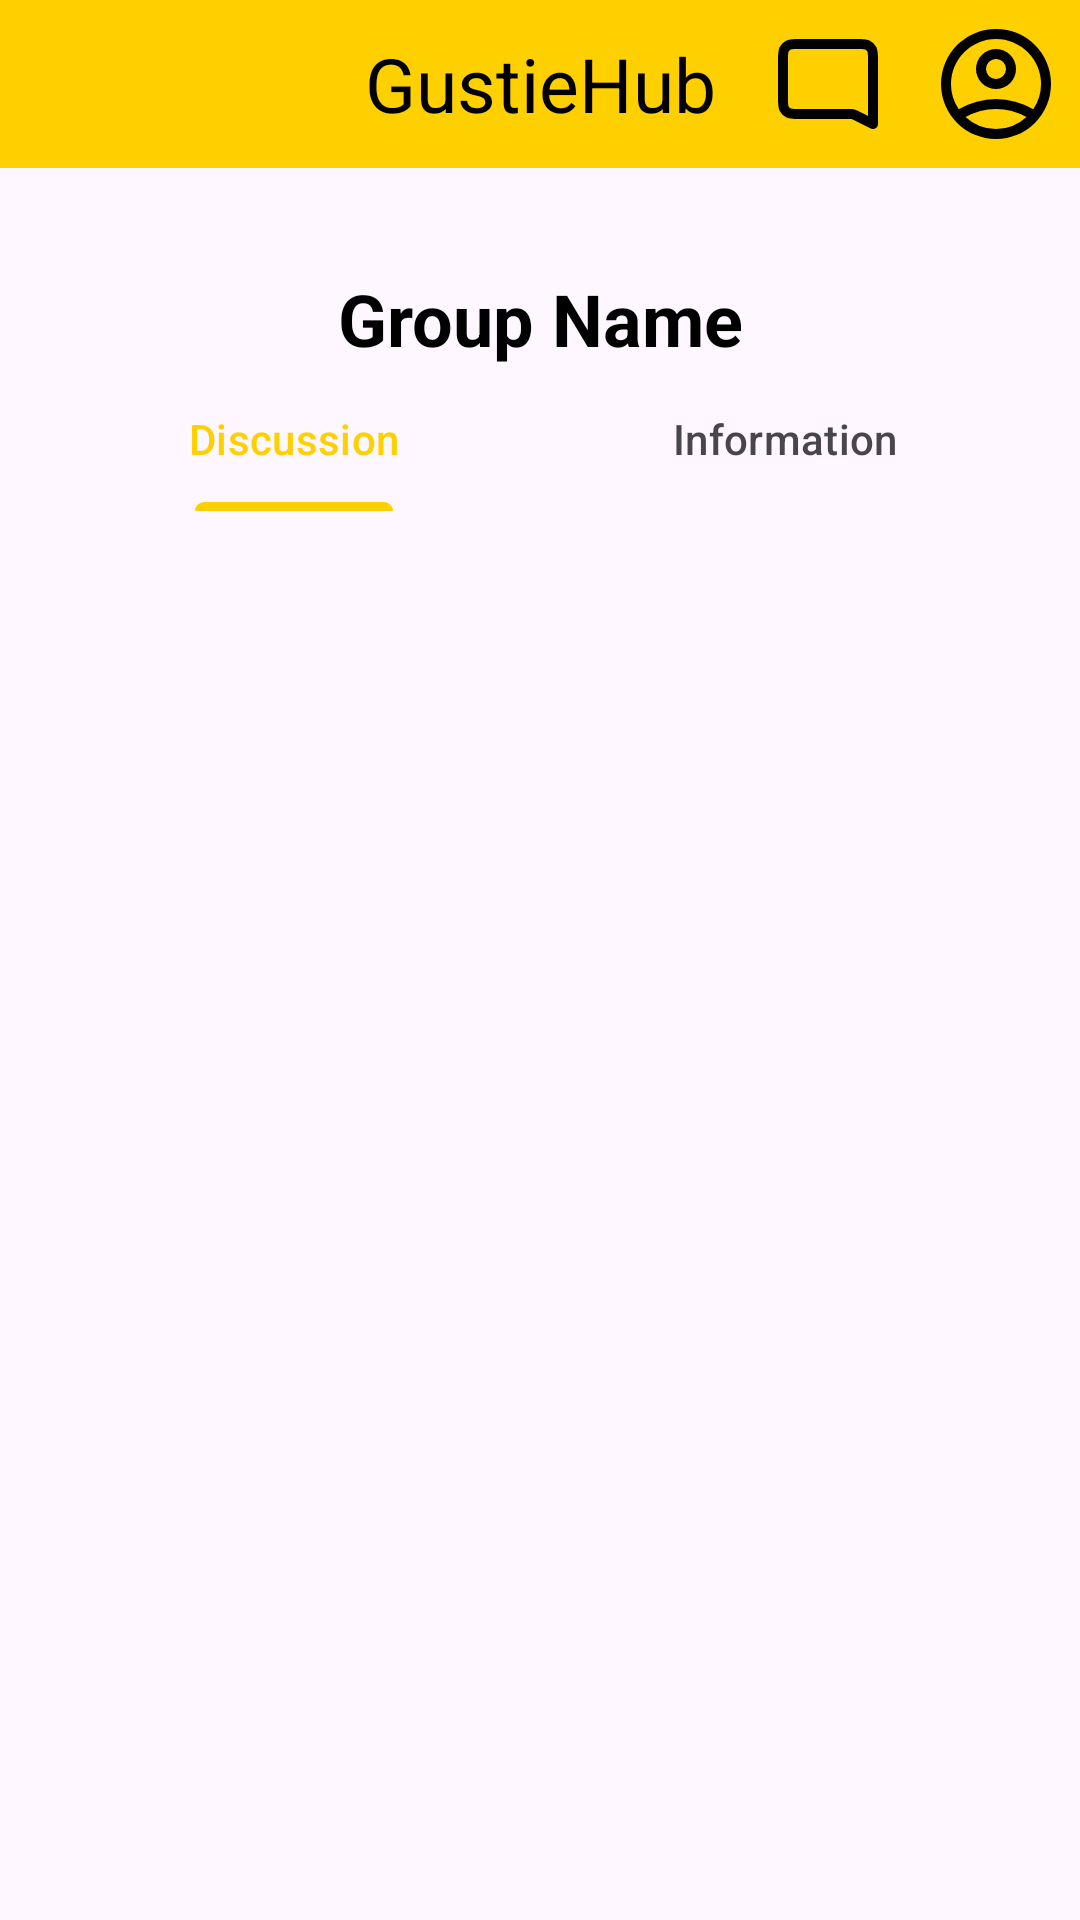

Icons on this 1080 × 1920 Android screen, each with its box as (x1, y1, x2, y2):
message: (778, 39, 878, 129)
profile: (941, 29, 1051, 139)
